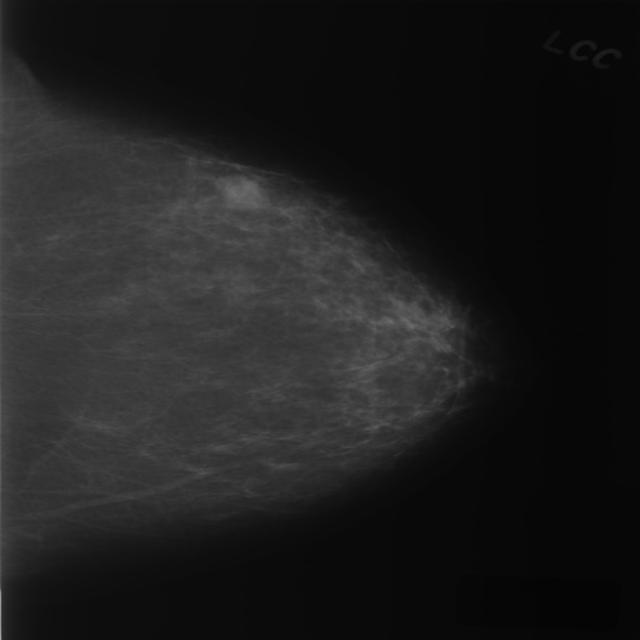tumour: (211, 171, 266, 210)
